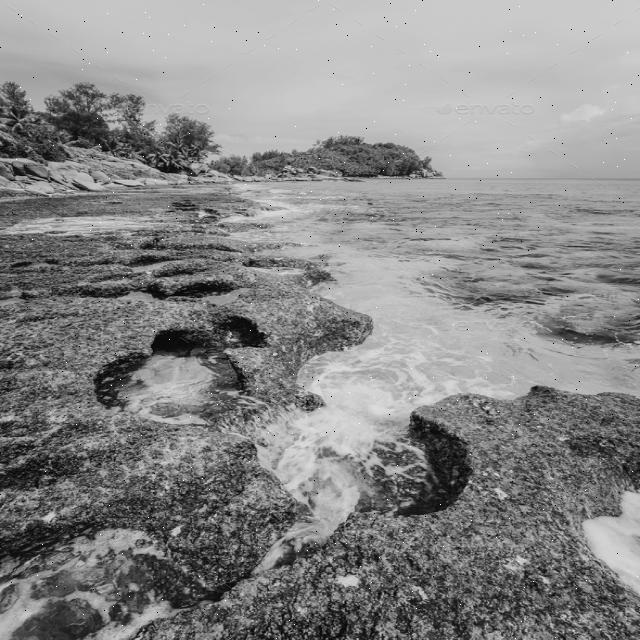Igneous: (1, 228, 383, 596), (333, 382, 637, 640)
